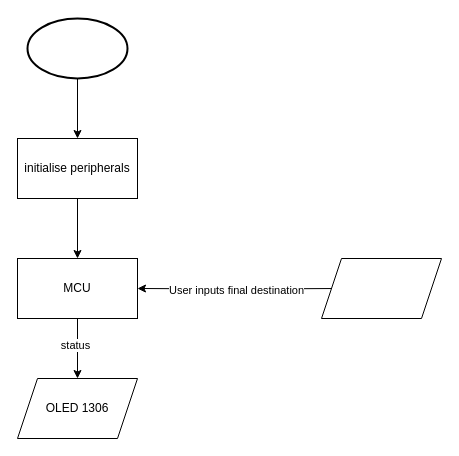
Some shapes in this 459 by 456 pixel diagram are drawn without their labels. Each missing label, with the centre of its shape:
"loop" belongs at (77,48).
"WiFi" belongs at (381,288).
